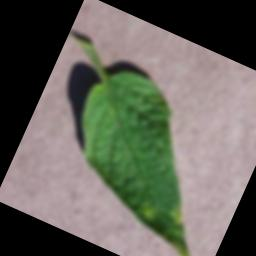Leaf_Mold: (169, 204, 189, 229)
